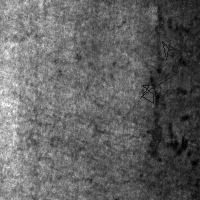crazing: (27, 115, 145, 185), (146, 3, 194, 164), (140, 31, 197, 103)
